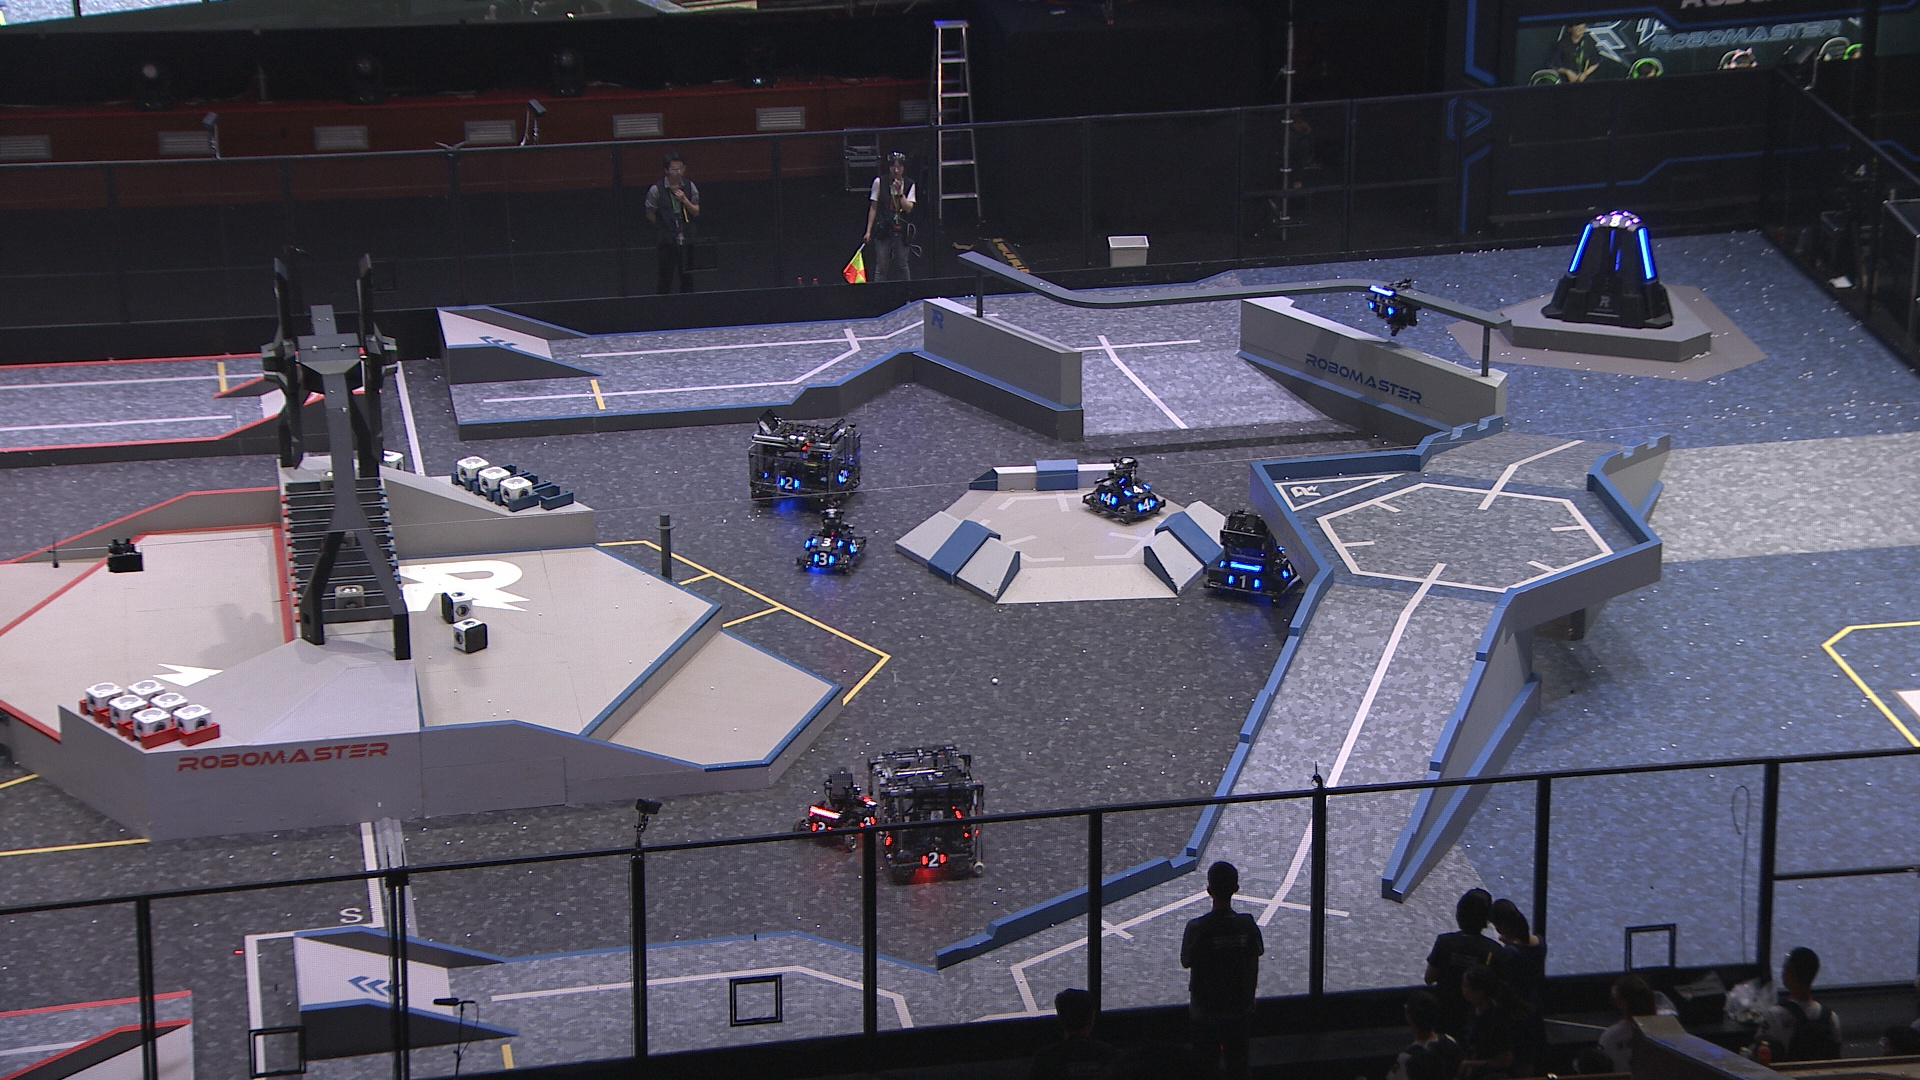armor: (1567, 222, 1596, 272), (1636, 225, 1658, 280), (920, 851, 948, 872), (1367, 299, 1395, 320), (1226, 574, 1263, 589), (1120, 480, 1150, 498), (808, 535, 844, 550), (1134, 495, 1158, 514), (775, 473, 798, 493), (808, 820, 836, 836), (812, 547, 835, 566), (831, 465, 851, 485), (1280, 559, 1298, 582), (1098, 491, 1120, 506), (1607, 225, 1618, 257), (856, 814, 876, 829), (880, 829, 895, 849), (847, 535, 860, 556)
base: (1542, 206, 1679, 334)
car: (872, 740, 989, 884), (746, 405, 872, 518), (1201, 496, 1317, 599), (793, 765, 887, 855), (790, 500, 869, 576), (1083, 452, 1168, 522)
ignore: (1598, 210, 1633, 228)
watcher: (1361, 276, 1423, 335)
